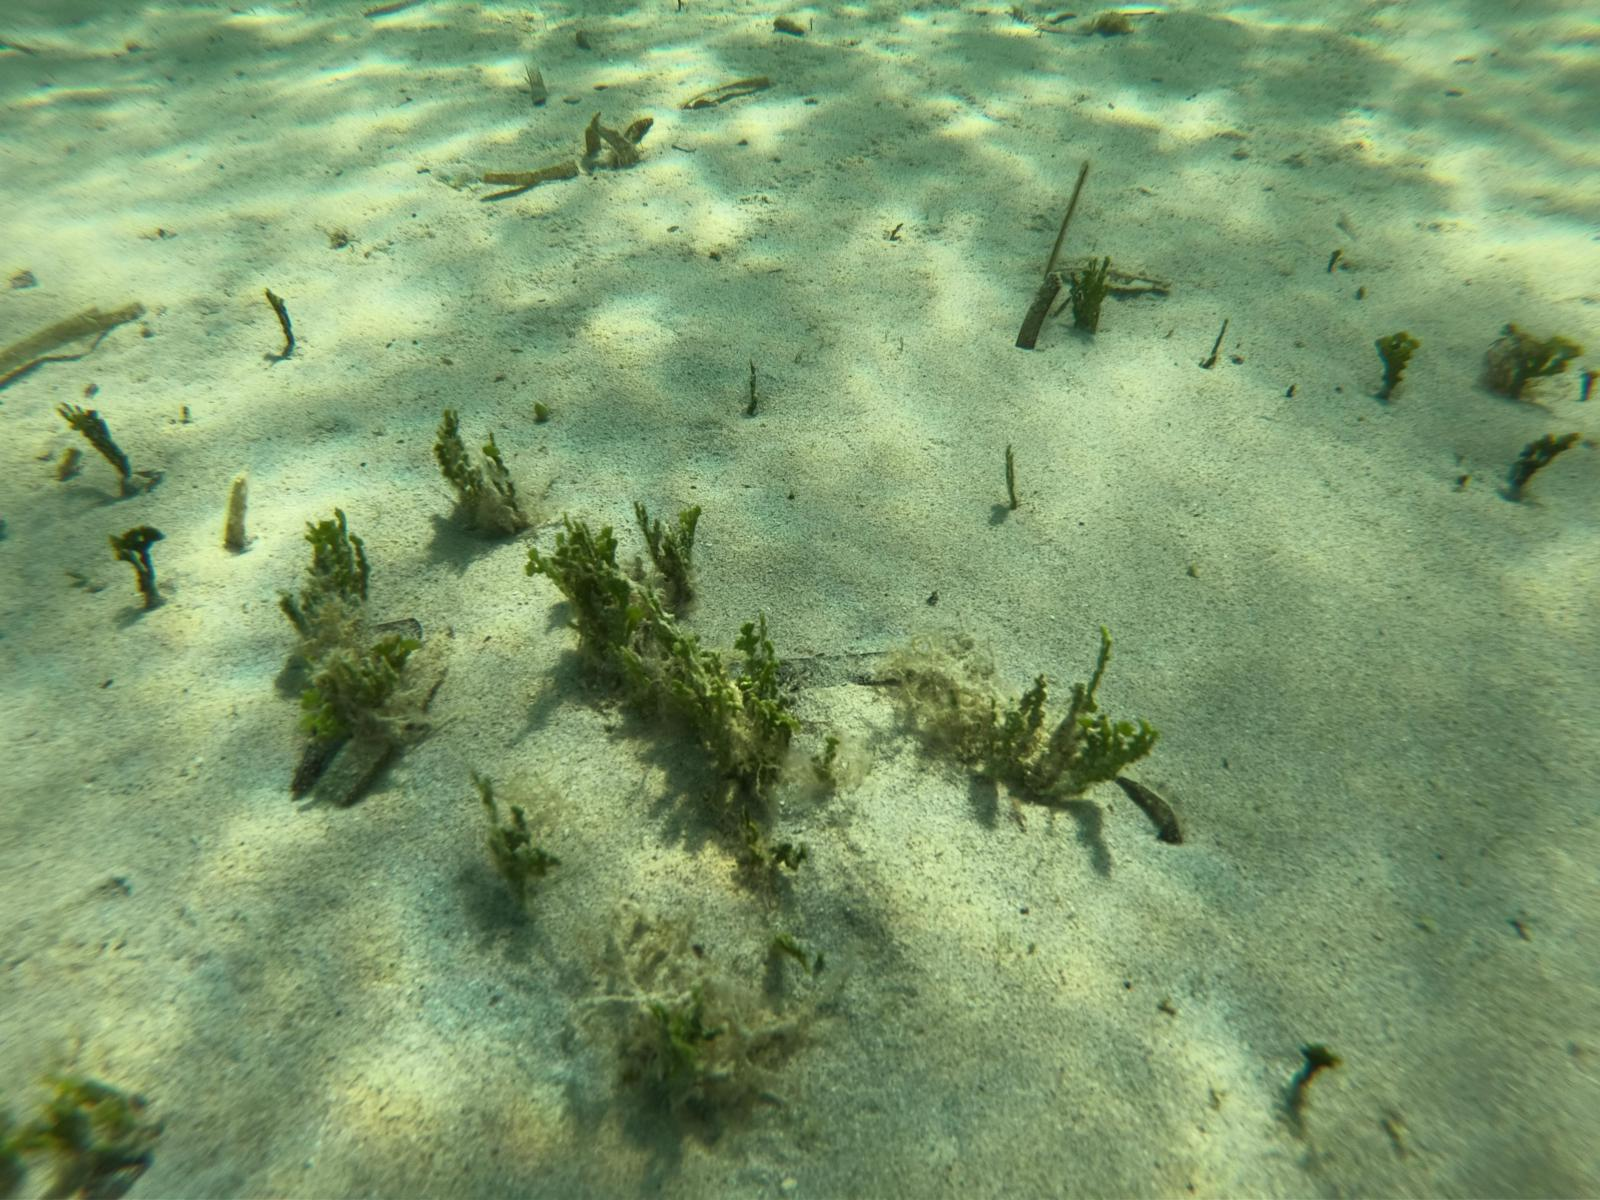halimeda: (619, 623, 792, 740), (306, 639, 408, 750), (530, 528, 634, 628), (477, 785, 551, 921), (1067, 691, 1157, 799), (1493, 321, 1581, 398), (60, 395, 137, 482), (980, 677, 1054, 766), (299, 508, 372, 599), (1500, 417, 1574, 503), (723, 802, 799, 877), (632, 499, 698, 586), (430, 410, 480, 495), (1061, 258, 1116, 335), (117, 527, 168, 608), (1373, 328, 1419, 400), (1293, 1037, 1340, 1105), (265, 289, 299, 354), (495, 485, 525, 524), (484, 437, 508, 476)
